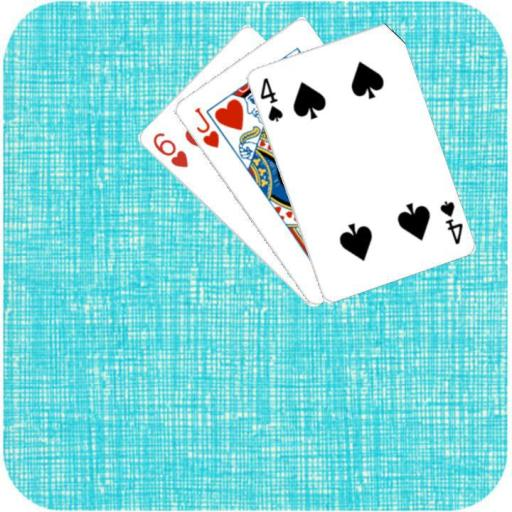4S: (256, 74, 284, 123), (436, 197, 464, 246)
6H: (149, 130, 189, 170)
JH: (191, 104, 221, 149)
